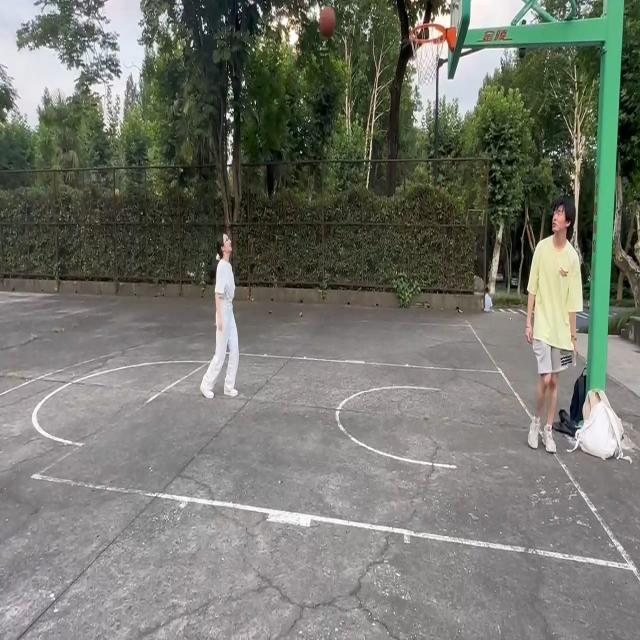basketball: (409, 22, 451, 84)
rim: (319, 6, 336, 36)
